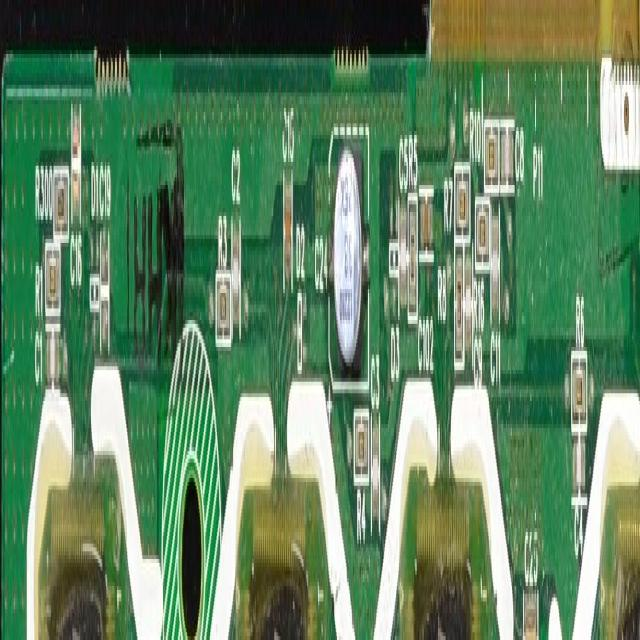IC: (394, 489, 482, 640), (239, 524, 325, 640), (595, 482, 640, 640), (46, 566, 107, 640)
capacitor: (326, 96, 370, 350), (281, 131, 297, 314), (367, 378, 384, 544), (39, 316, 66, 416), (498, 96, 522, 206), (229, 177, 246, 330), (489, 193, 502, 375), (419, 166, 439, 270), (397, 162, 410, 320), (571, 424, 592, 521), (520, 555, 542, 640), (461, 235, 473, 367), (72, 108, 80, 220)
resistor: (568, 328, 594, 441), (351, 386, 373, 512), (43, 235, 68, 328), (452, 139, 471, 254), (214, 254, 233, 363), (452, 243, 467, 373), (406, 174, 418, 336), (483, 108, 502, 203), (474, 189, 492, 284), (54, 170, 68, 238)
